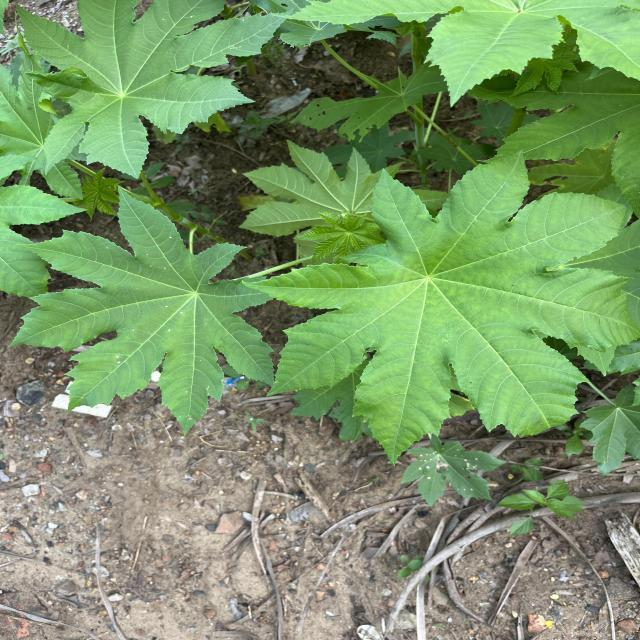Ricinus communis linn: (238, 146, 640, 469), (2, 180, 277, 440), (2, 0, 298, 183)
